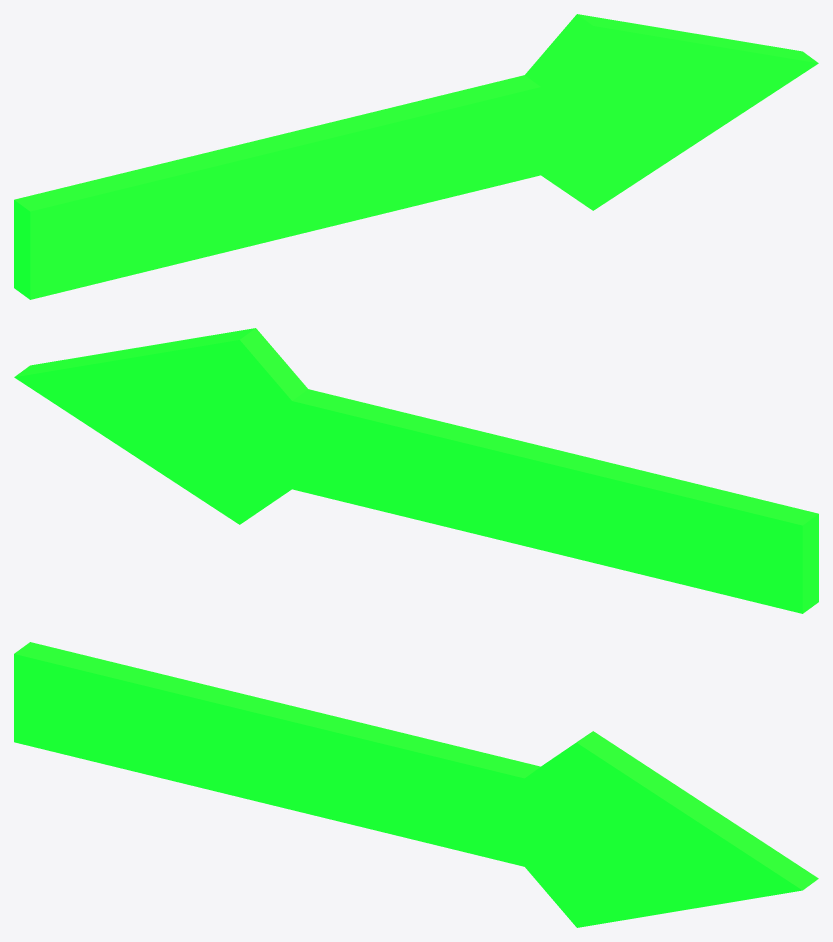
The model's file is navArrow.fbx.
The picture shows the model from 3 angles, top to bottom: view 1: azimuth 30°, elevation 25°; view 2: azimuth 150°, elevation 25°; view 3: azimuth 330°, elevation 25°; orthographic projection.
Visible parts, largest first — view 1: Arrow; view 2: Arrow; view 3: Arrow.
Part boxes in pixels (x1=…): Arrow: x1=14, y1=14, x2=818, y2=299; Arrow: x1=14, y1=328, x2=818, y2=613; Arrow: x1=14, y1=642, x2=818, y2=927.
Size of the model in its own units: 20 by 560 by 126.
